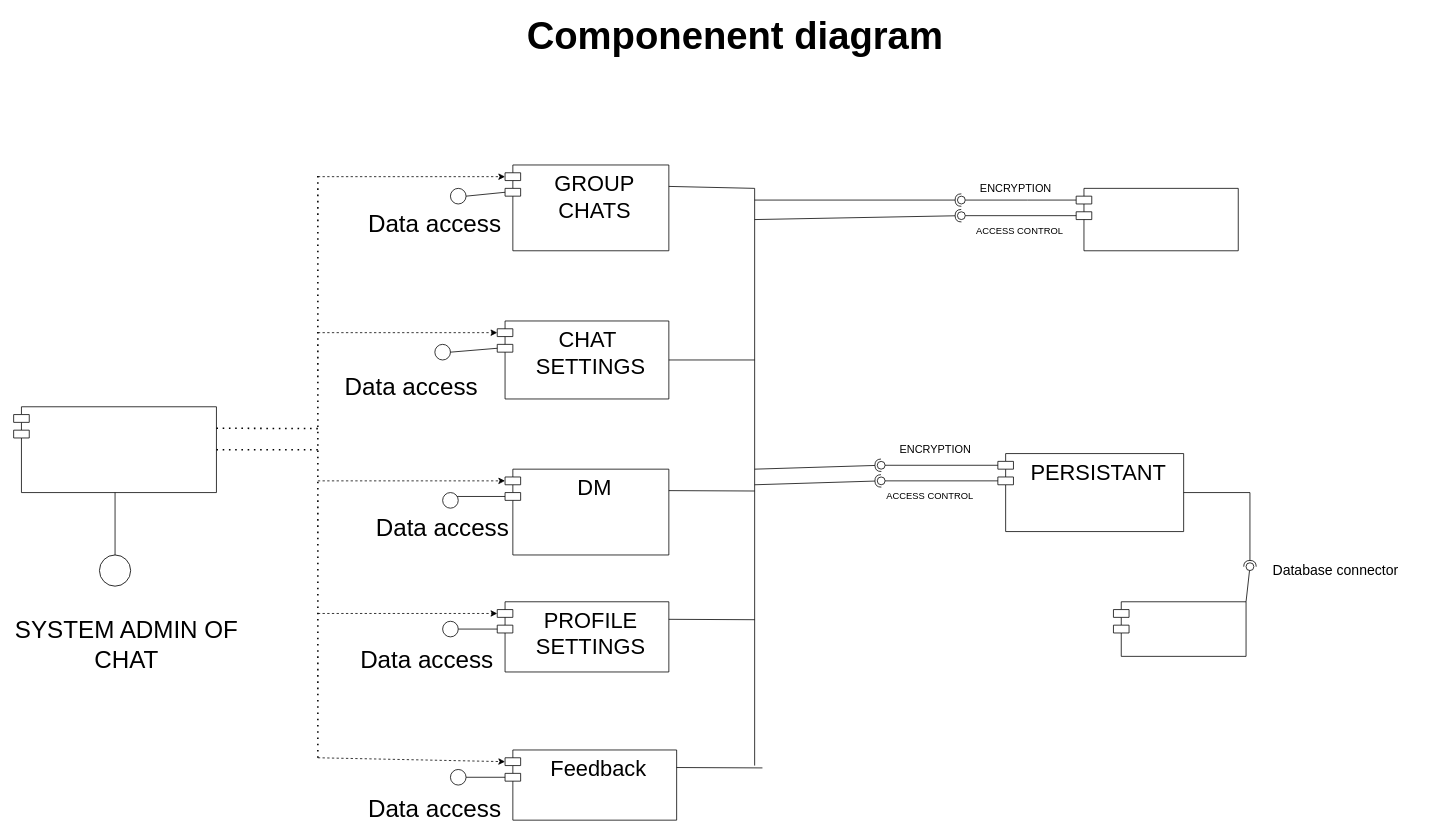
The diagram is 1439 pixels wide and 836 high, and some of its shapes have lost their labels. Here are the shapes that lost their labels. From the top down, the centre of each, then its label:
(1156,219): SECURITY
(114,449): CHAT APP SYSTEM
(1179,628): DATABASE
